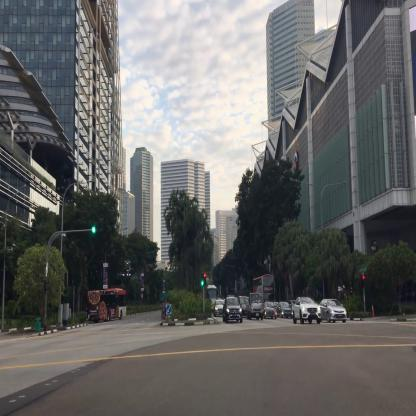green_traffic_light: (201, 272, 204, 286), (92, 227, 102, 231)
